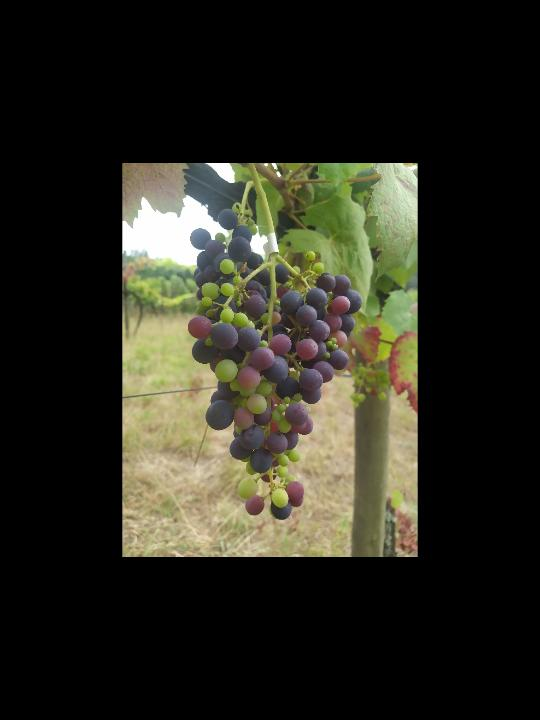grape: (186, 207, 364, 522)
